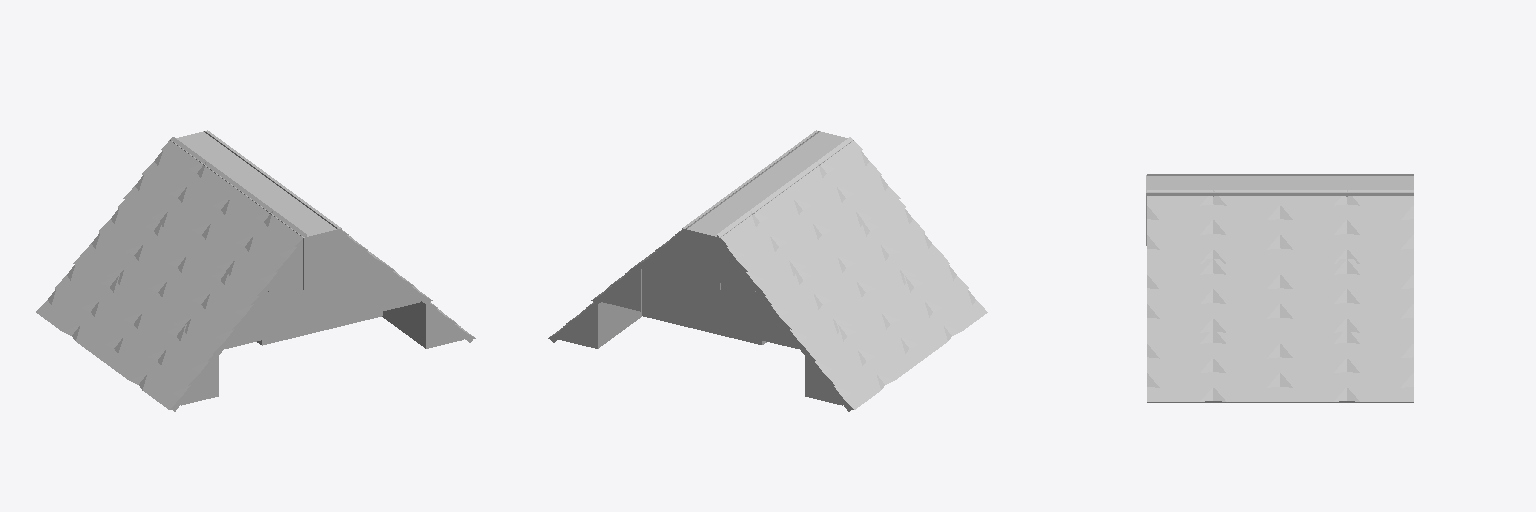
File: roof.obj
3 views of the same model, side by side, from view 1: azimuth 30°, elevation 25°; view 2: azimuth 150°, elevation 25°; view 3: azimuth 270°, elevation 25° (orthographic).
Parts seen in each view (by area): view 1: group2 object3, group2 object4, group2 object5, group2 pCube13, group2 pCube12, object2 group2, group2 Roof_Straight_Side_Eave:object1, group2 object1; view 2: group2 object3, group2 object4, group2 object5, group2 pCube13, group2 pCube11, object2 group2, group2 Roof_Straight_Side_Eave:object1, group2 object1; view 3: object2 group2, group2 Roof_Straight_Side_Eave:object1, group2 object1, group2 pCube13, group2 object3.
Boxes of the visible parts, x1=… form: group2 object3: x1=123, y1=137, x2=306, y2=297; group2 object4: x1=80, y1=200, x2=262, y2=354; group2 object5: x1=36, y1=257, x2=218, y2=411; group2 pCube13: x1=170, y1=130, x2=341, y2=289; group2 pCube12: x1=257, y1=266, x2=382, y2=345; object2 group2: x1=382, y1=301, x2=475, y2=348; group2 Roof_Straight_Side_Eave:object1: x1=373, y1=254, x2=432, y2=310; group2 object1: x1=204, y1=131, x2=386, y2=274; group2 object3: x1=717, y1=137, x2=900, y2=297; group2 object4: x1=761, y1=200, x2=943, y2=354; group2 object5: x1=805, y1=257, x2=987, y2=411; group2 pCube13: x1=682, y1=130, x2=853, y2=289; group2 pCube11: x1=642, y1=266, x2=766, y2=344; object2 group2: x1=548, y1=301, x2=641, y2=348; group2 Roof_Straight_Side_Eave:object1: x1=591, y1=254, x2=650, y2=311; group2 object1: x1=638, y1=131, x2=819, y2=274; object2 group2: x1=1147, y1=332, x2=1413, y2=402; group2 Roof_Straight_Side_Eave:object1: x1=1147, y1=259, x2=1413, y2=332; group2 object1: x1=1147, y1=190, x2=1413, y2=263; group2 pCube13: x1=1146, y1=175, x2=1413, y2=245; group2 object3: x1=1147, y1=174, x2=1413, y2=175.
Size of the model in its own units: 20.06 by 9.3 by 15.16.